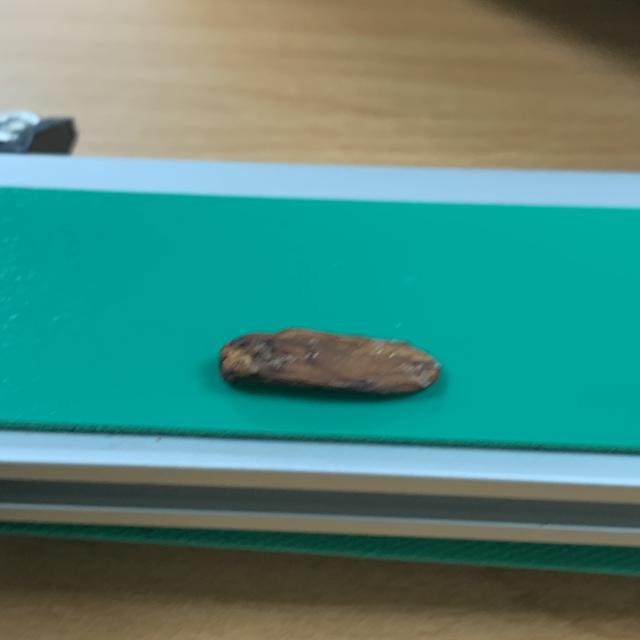Flat_cocoabeans: (151, 287, 508, 454)
